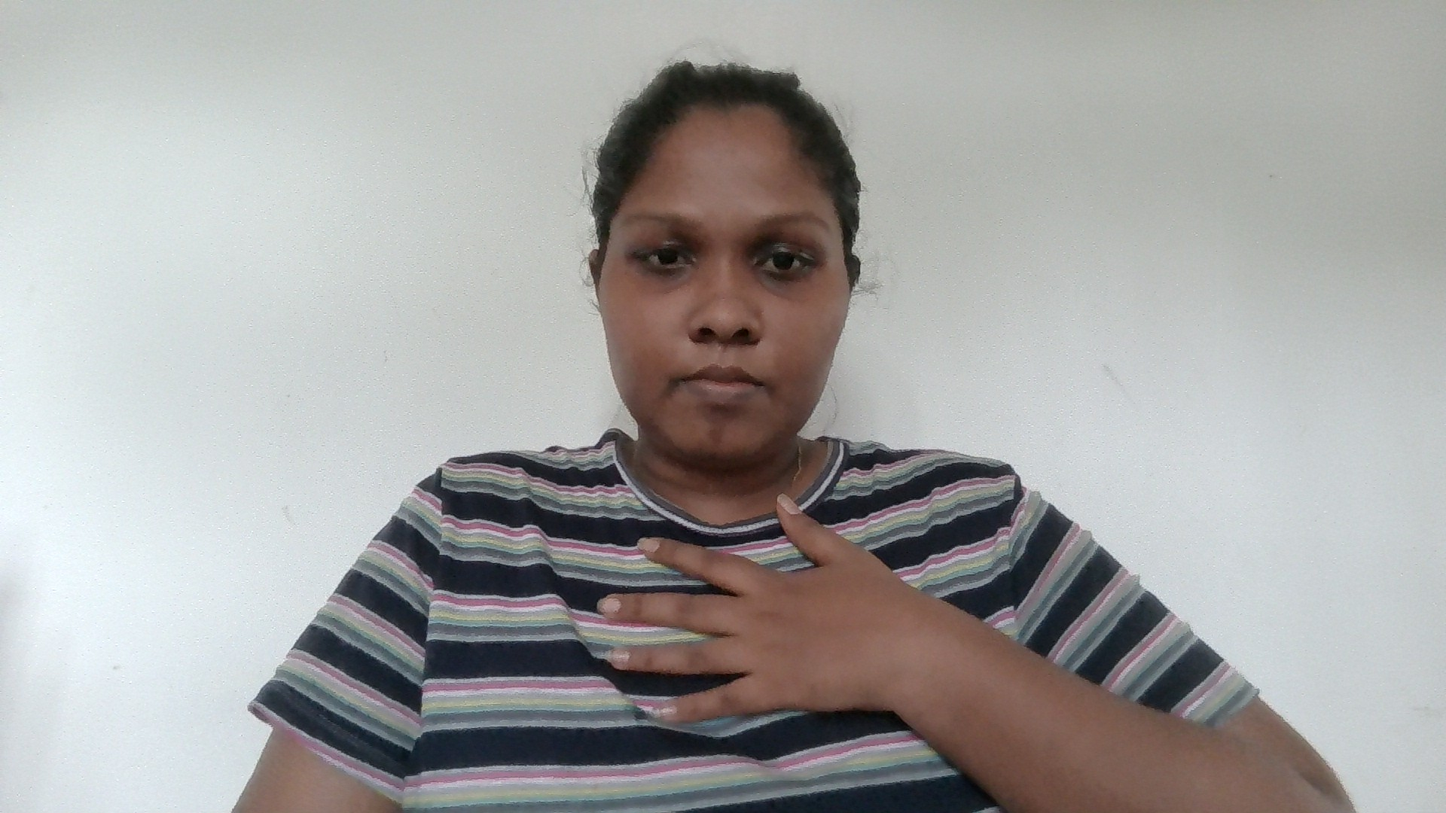Please: (572, 501, 989, 778)
